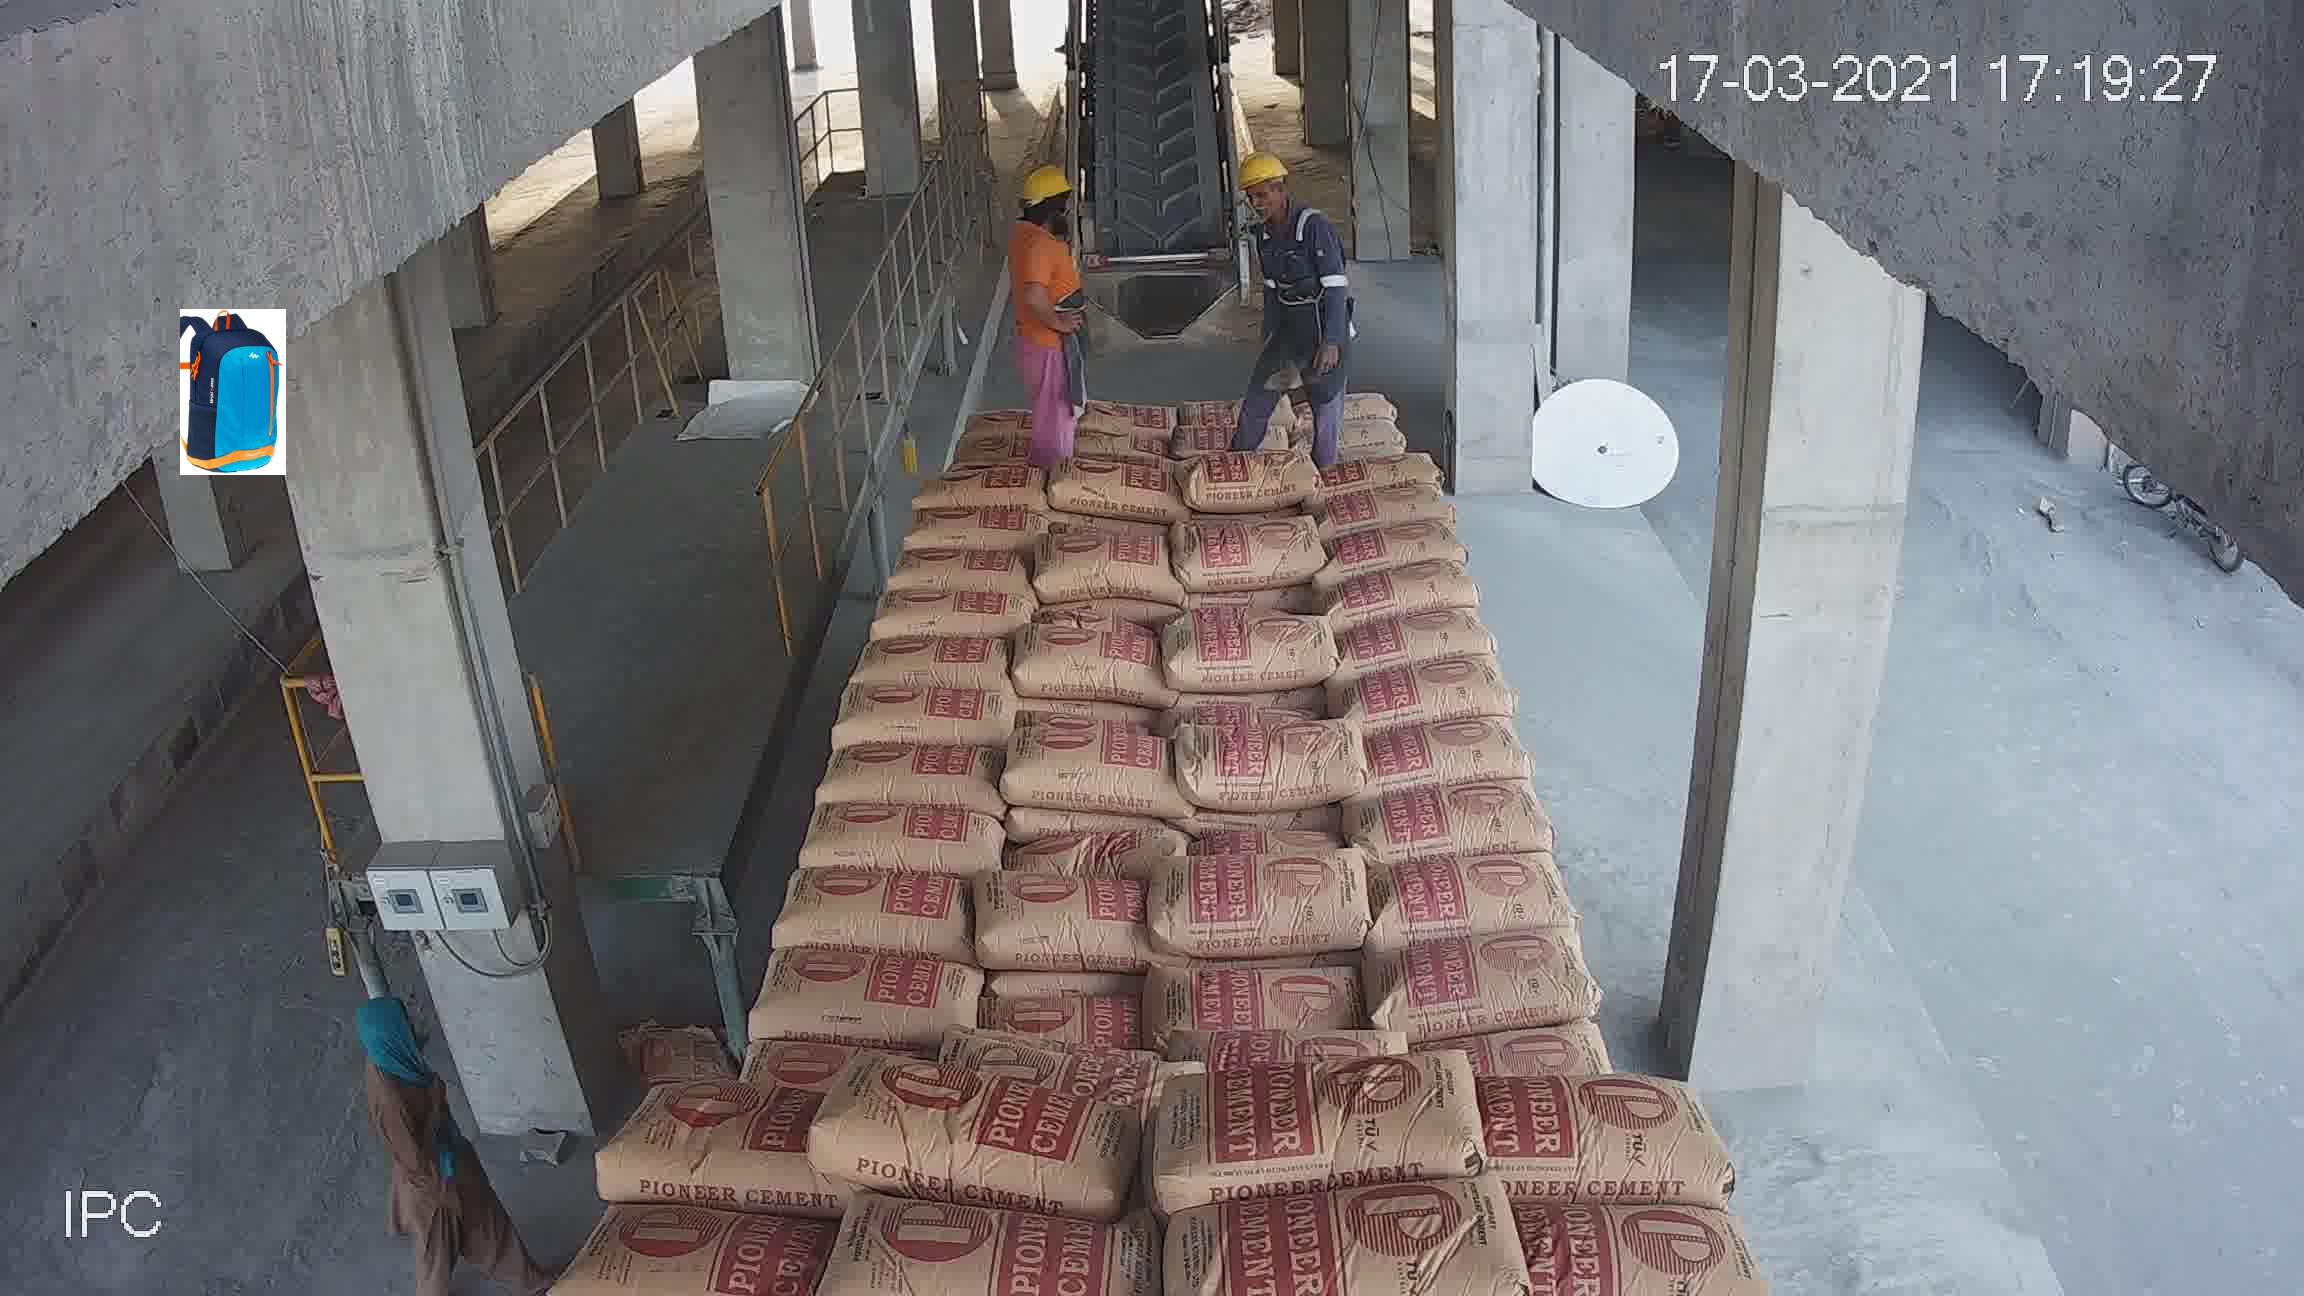bag_h: (1154, 1036, 1473, 1204), (809, 1059, 1147, 1193), (1173, 1173, 1527, 1264), (815, 1195, 1161, 1274), (587, 1079, 817, 1196), (536, 1195, 832, 1285), (1358, 921, 1598, 1021), (1456, 1082, 1706, 1173), (1160, 848, 1380, 949), (722, 957, 978, 1038), (761, 866, 994, 954), (1168, 706, 1367, 809), (957, 848, 1147, 954), (1510, 1195, 1761, 1272), (1152, 940, 1372, 1029), (785, 733, 1006, 815), (788, 798, 1005, 880), (1160, 609, 1348, 699), (1362, 858, 1568, 937), (1362, 775, 1567, 855), (1351, 699, 1521, 791), (1155, 506, 1323, 593), (831, 673, 1024, 745), (1320, 600, 1506, 669), (1340, 635, 1518, 707), (1002, 729, 1173, 804), (831, 628, 1014, 695), (1184, 1014, 1385, 1074), (1014, 612, 1161, 692), (1021, 812, 1193, 878), (972, 1025, 1146, 1084), (1324, 514, 1465, 585), (866, 589, 1051, 642), (1313, 476, 1461, 541), (1456, 1025, 1612, 1084), (962, 987, 1146, 1036), (1052, 525, 1166, 603), (911, 456, 1059, 514), (1173, 445, 1321, 498), (1054, 445, 1174, 510), (1324, 559, 1495, 603), (891, 503, 1044, 551), (1313, 449, 1445, 503), (883, 541, 1027, 590), (1062, 388, 1179, 438), (1055, 423, 1193, 464)
belt: (1063, 24, 1244, 296)
